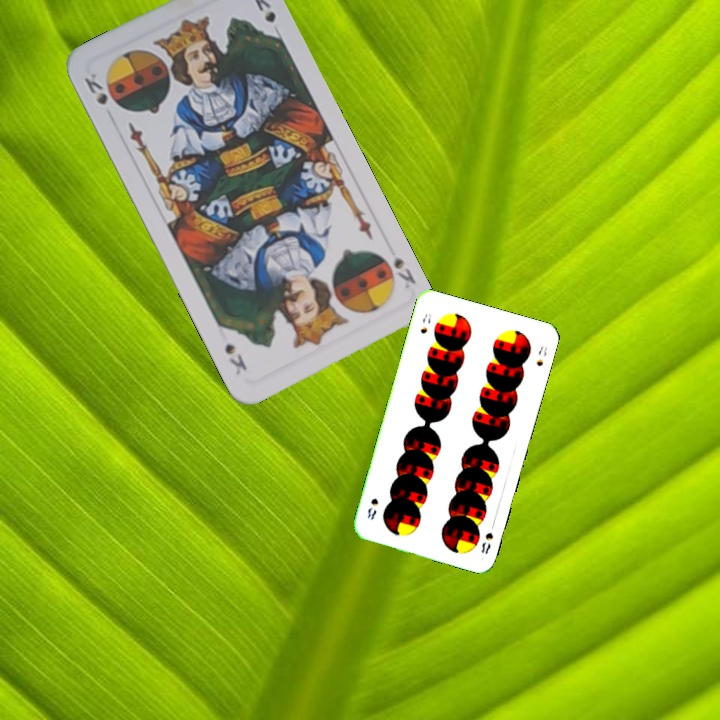S8: (477, 528, 496, 556), (416, 310, 434, 336)
SK: (80, 68, 111, 108), (389, 253, 419, 291)
